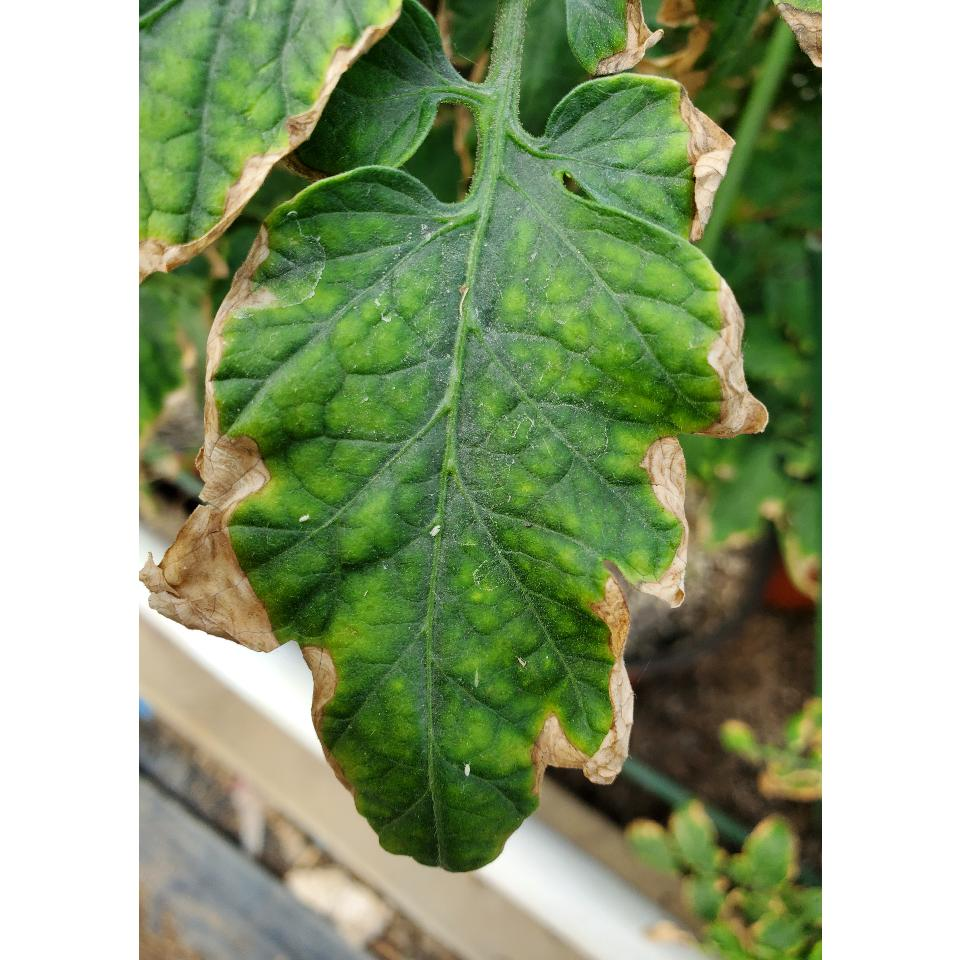tomato_bacterial_blight: (138, 103, 772, 880), (138, 3, 414, 280)
